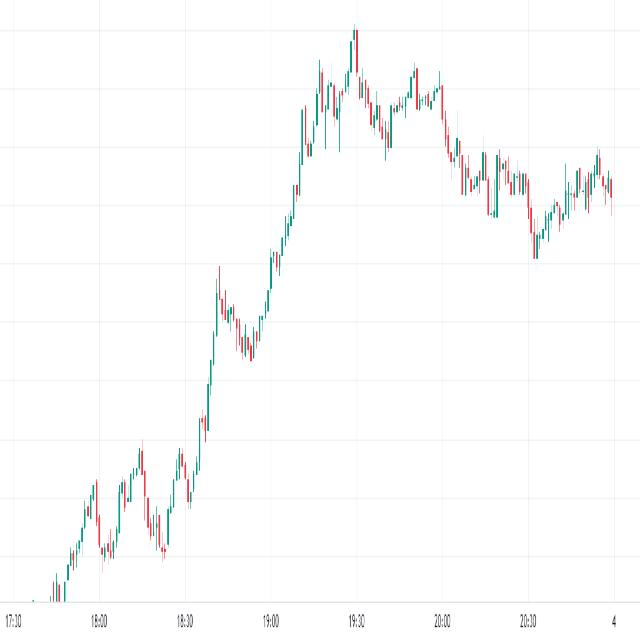Channel-down: (293, 10, 604, 293)
rectangle: (88, 443, 193, 567)
